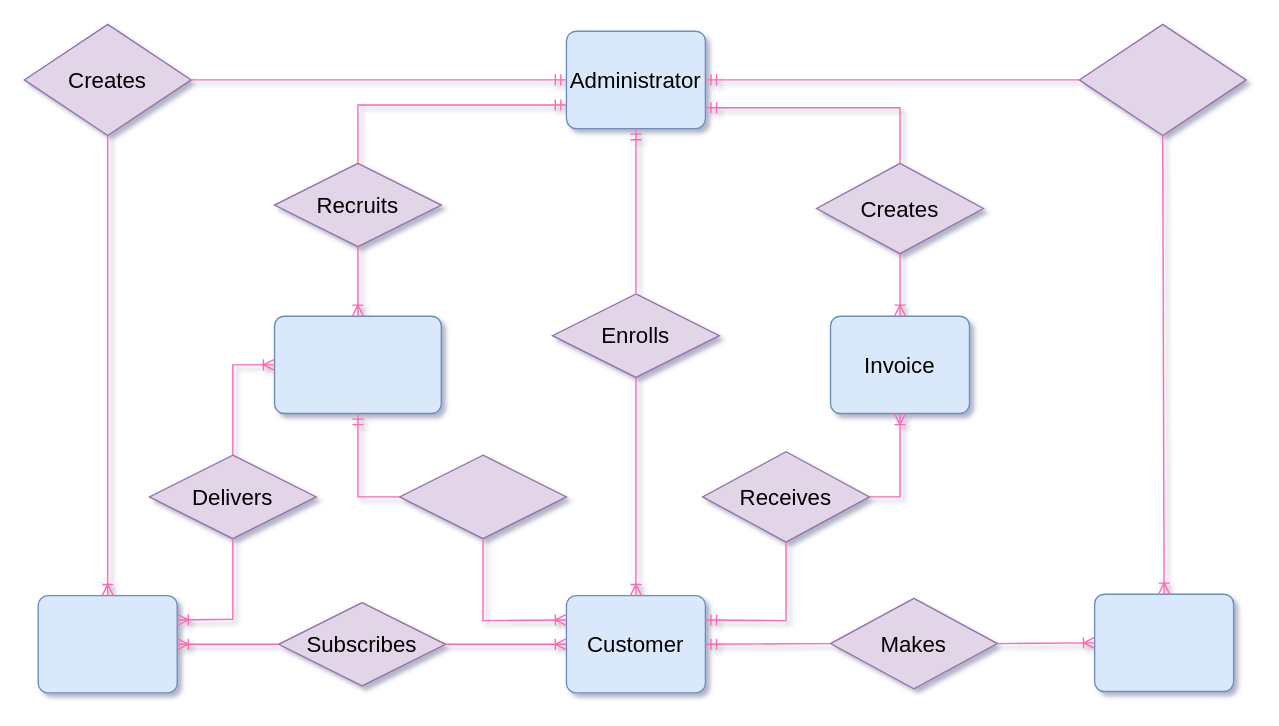
Some shapes in this 1279 by 726 pixel diagram are drawn without their labels. Each missing label, with the centre of its shape:
Acknowledges: point (1162, 79)
DeliverySquad: point (357, 364)
Payment: point (1163, 642)
Product: point (107, 643)
Reaches: point (482, 496)
